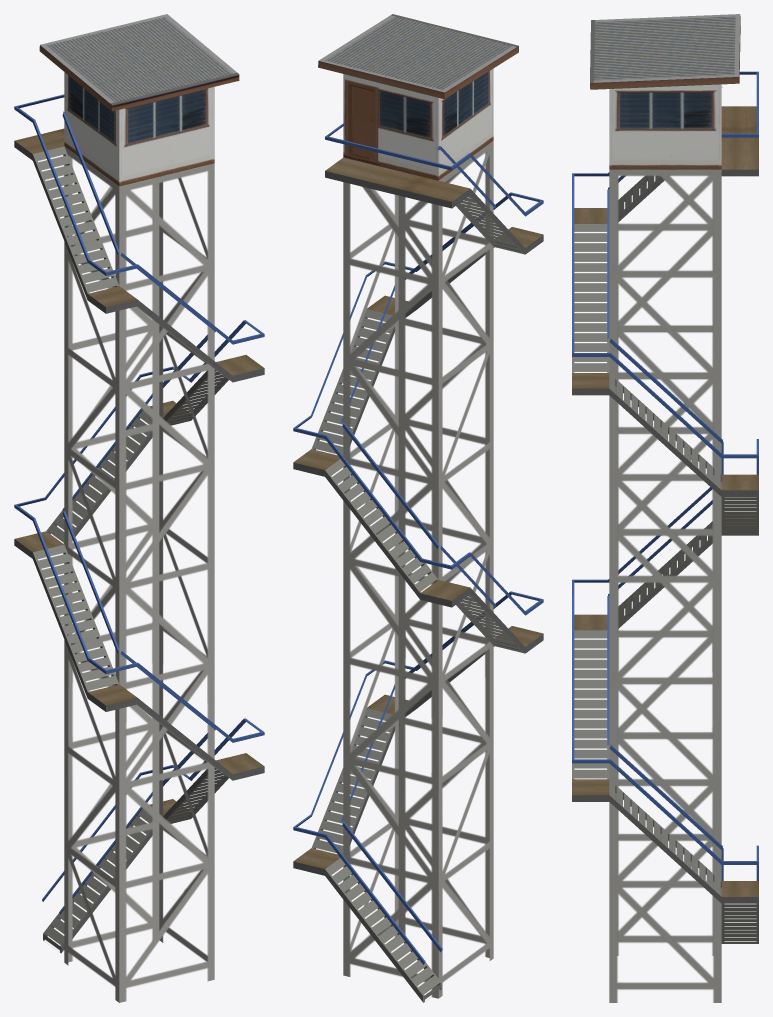
Rendered from fire-tower-27m-cbj_LOD03.gltf.
3 views of the same model, side by side, from view 1: azimuth 30°, elevation 25°; view 2: azimuth 150°, elevation 25°; view 3: azimuth 270°, elevation 25° (orthographic). The views are drawn at different scales.
Visible parts, largest first — view 1: Cube.003; view 2: Cube.003; view 3: Cube.003.
Part boxes in pixels (left/top/right/bottom): Cube.003: left=14, top=14, right=264, bottom=1002; Cube.003: left=293, top=14, right=543, bottom=1002; Cube.003: left=572, top=14, right=758, bottom=1002.
Size of the model in its own units: 5 by 27.58 by 5.
